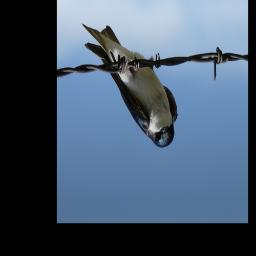Swallow: (84, 24, 178, 148)
